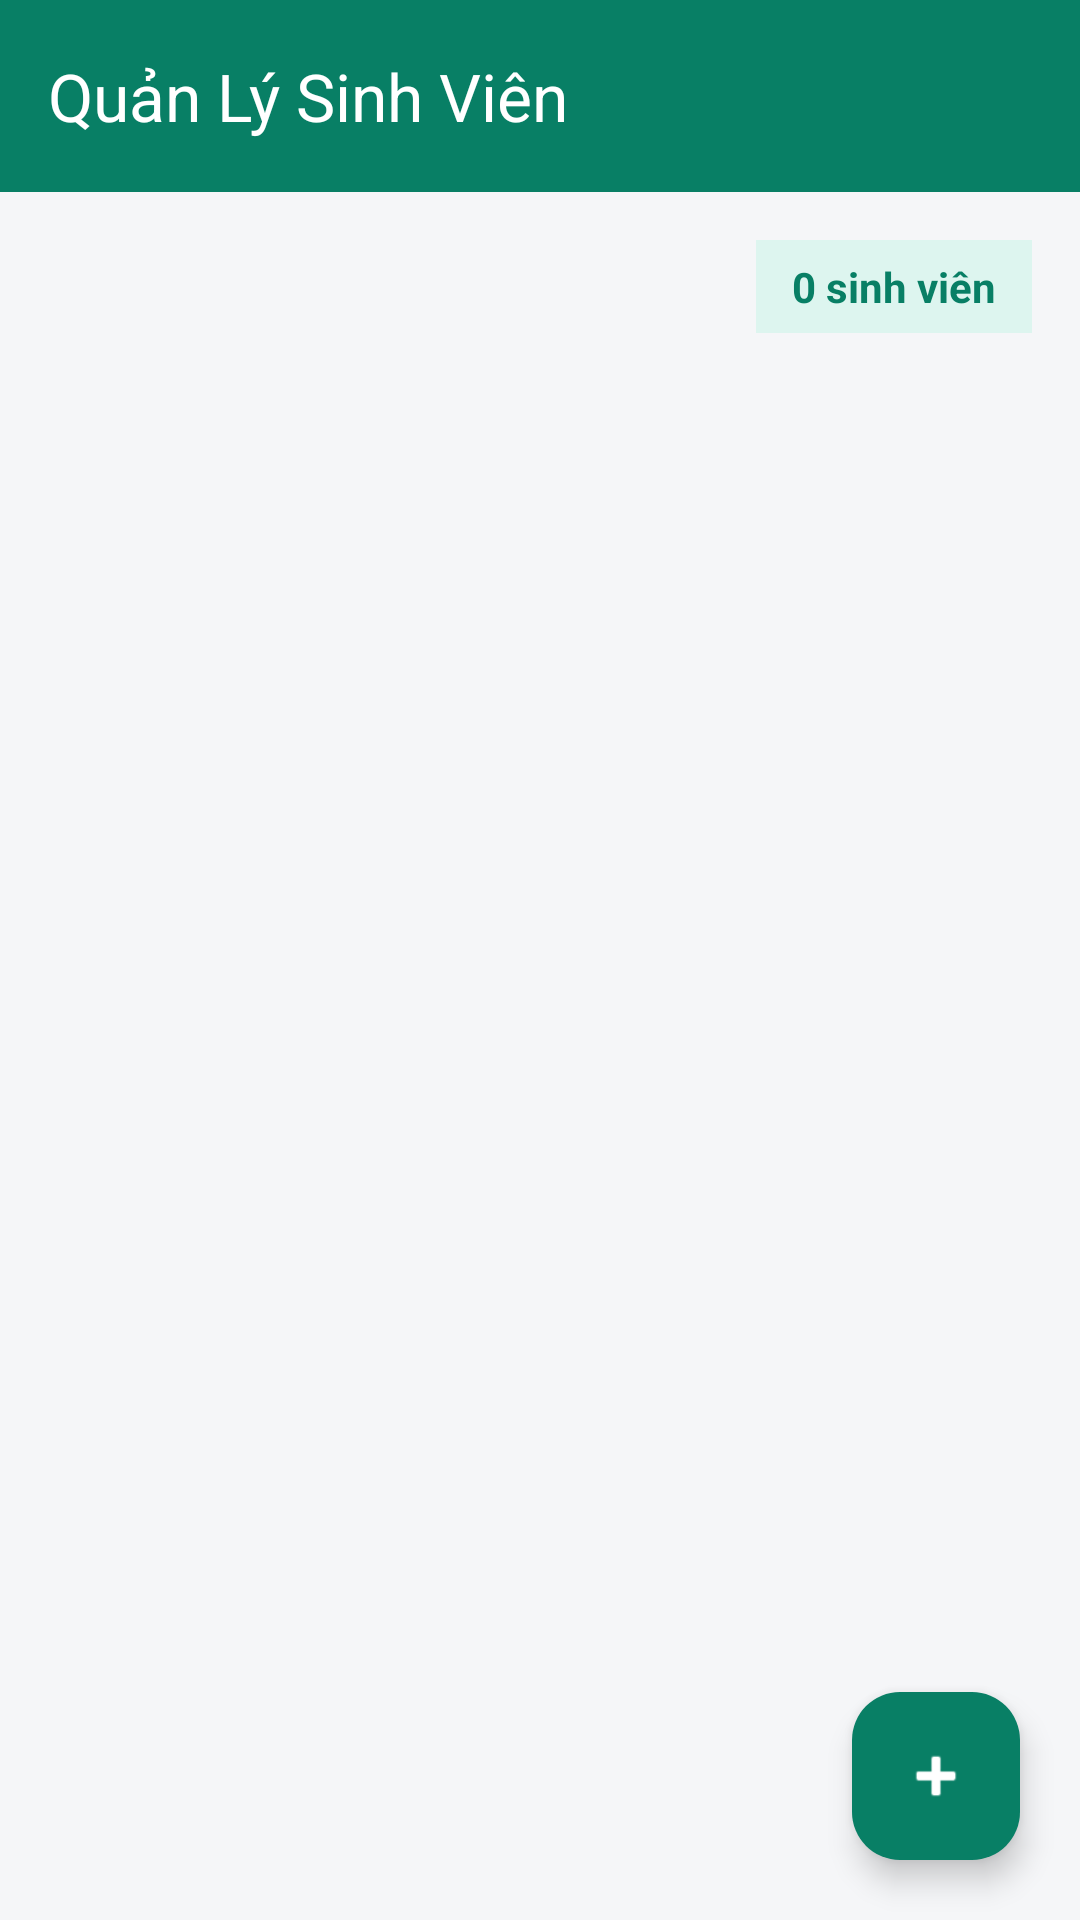

Point at icon controls on the screen. Image size 1080 x 1920, points as [x,y].
Thêm sinh viên: [936,1776]
